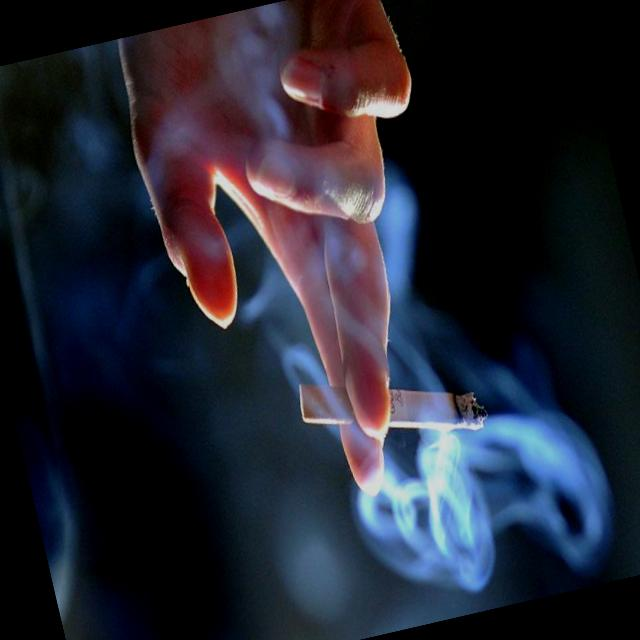cigarette: (291, 346, 490, 471)
